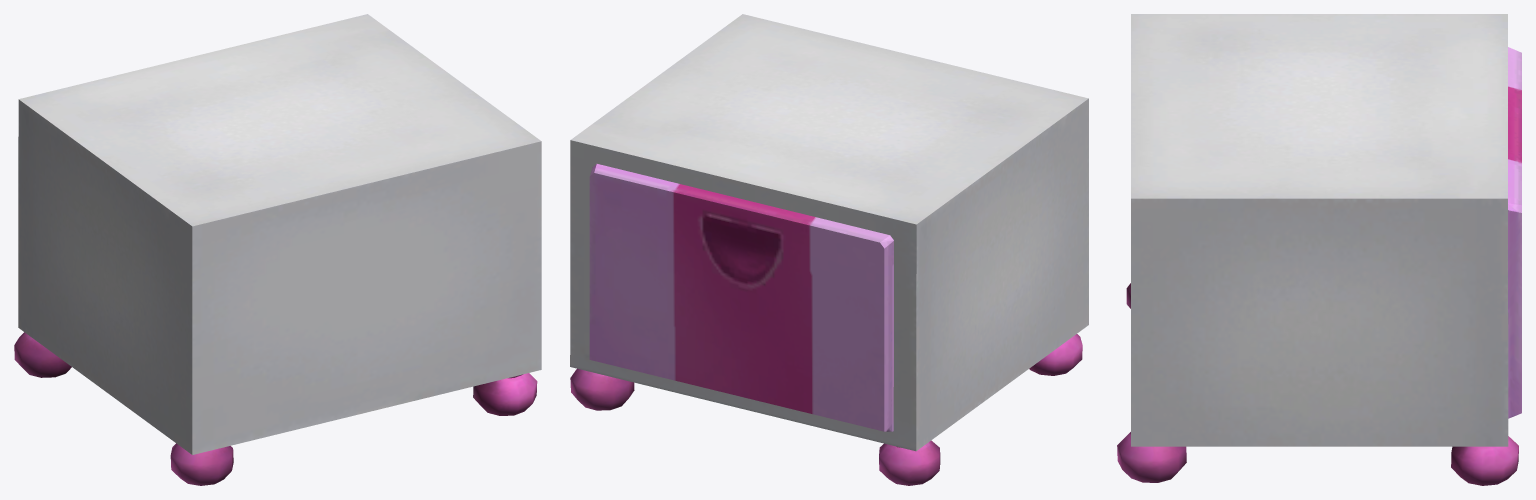
Rendered from furni_0200514_01.FBX.
The picture shows the model from 3 angles, left to right: view 1: azimuth 30°, elevation 25°; view 2: azimuth 150°, elevation 25°; view 3: azimuth 270°, elevation 25°; orthographic projection. The views are drawn at different scales.
Visible parts, largest first — view 1: furni_0200514_01; view 2: furni_0200514_01; view 3: furni_0200514_01.
Part boxes in pixels (bbox=[...]): furni_0200514_01: bbox=[14, 14, 541, 485]; furni_0200514_01: bbox=[570, 14, 1088, 485]; furni_0200514_01: bbox=[1117, 14, 1521, 485].
Size of the model in its own units: 72.08 by 50.25 by 63.82.
1 material, 1 textured.
